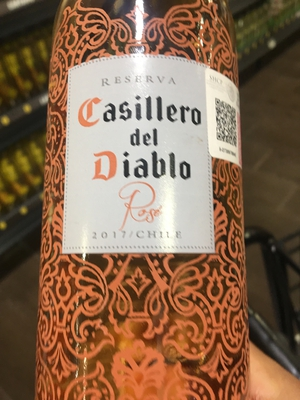casillero del diablo rose: (37, 5, 246, 400)
